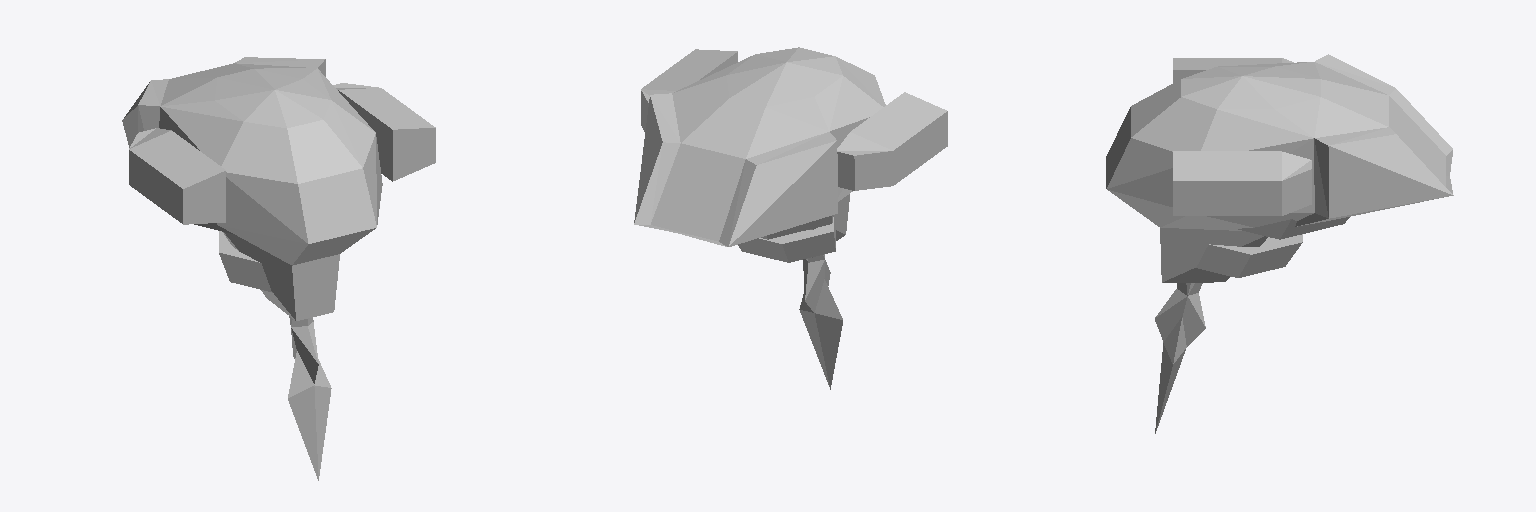
File: acs02_static.obj
3 views of the same model, side by side, from view 1: azimuth 30°, elevation 25°; view 2: azimuth 150°, elevation 25°; view 3: azimuth 270°, elevation 25° (orthographic).
Visible parts, largest first — view 1: frm-fuselg_1_1, frm-rwepbas_1, frm-fuselg_3, frm-lwepbas_1, frm-bfusegl3_1, frm-bfuselg1_1, frm-bfuselg2_1; view 2: frm-fuselg_1_1, frm-rwepbas_1, frm-lwepbas_1, frm-bfusegl3_1, frm-bfuselg1_1, frm-bfuselg2_1, frm-fuselg_3; view 3: frm-fuselg_1_1, frm-lwepbas_1, frm-fuselg_3, frm-bfuselg1_1, frm-bfuselg2_1, frm-bfusegl3_1, frm-rwepbas_1, frm-bfuselg4_1.
Boxes of the visible parts, <box> form: frm-fuselg_1_1: <box>122,57,382,243</box>; frm-rwepbas_1: <box>129,128,225,224</box>; frm-fuselg_3: <box>218,225,375,320</box>; frm-lwepbas_1: <box>333,83,435,181</box>; frm-bfusegl3_1: <box>288,351,331,480</box>; frm-bfuselg1_1: <box>219,231,272,292</box>; frm-bfuselg2_1: <box>289,316,318,383</box>; frm-fuselg_1_1: <box>634,47,885,246</box>; frm-rwepbas_1: <box>837,92,947,190</box>; frm-lwepbas_1: <box>641,49,737,131</box>; frm-bfusegl3_1: <box>799,279,842,389</box>; frm-bfuselg1_1: <box>738,217,835,262</box>; frm-bfuselg2_1: <box>803,254,830,312</box>; frm-fuselg_3: <box>639,194,849,257</box>; frm-fuselg_1_1: <box>1106,54,1452,218</box>; frm-lwepbas_1: <box>1173,151,1311,215</box>; frm-fuselg_3: <box>1108,150,1453,282</box>; frm-bfuselg1_1: <box>1196,234,1302,277</box>; frm-bfuselg2_1: <box>1155,283,1205,346</box>; frm-bfusegl3_1: <box>1155,317,1186,433</box>; frm-rwepbas_1: <box>1173,58,1293,82</box>; frm-bfuselg4_1: <box>1238,217,1349,239</box>.
Size of the model in its own units: 4.12 by 5.61 by 4.9.